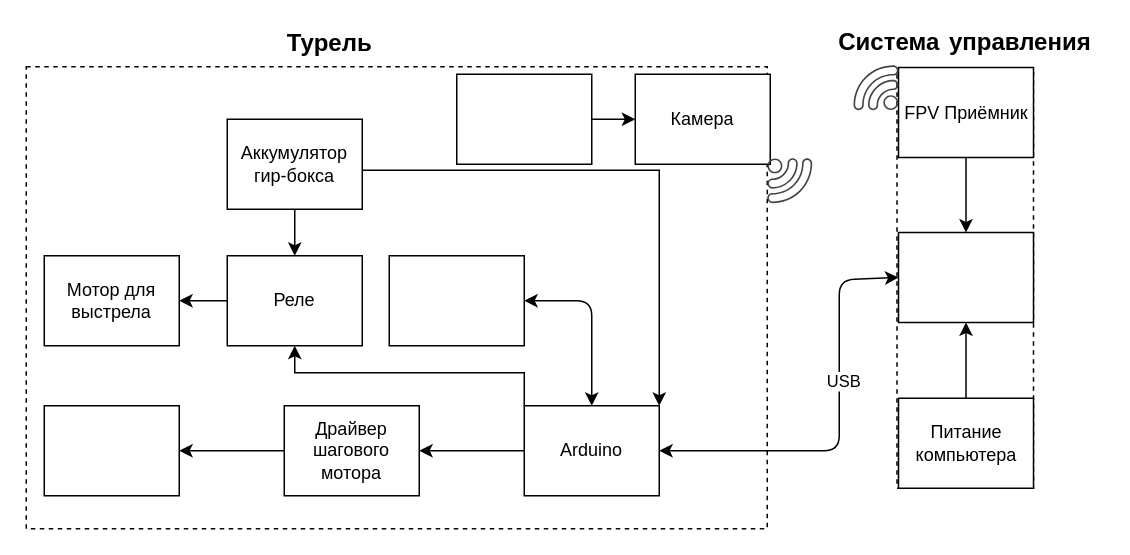
Image size: 1130x555. Some labels were removed from this diagram. Each missing label, with the centre of its shape:
Аккумулятор камеры: the point at 523,118
Компьютер (например RPI): the point at 965,276
Сервопривод: the point at 456,300
Шаговый мотор: the point at 111,450
